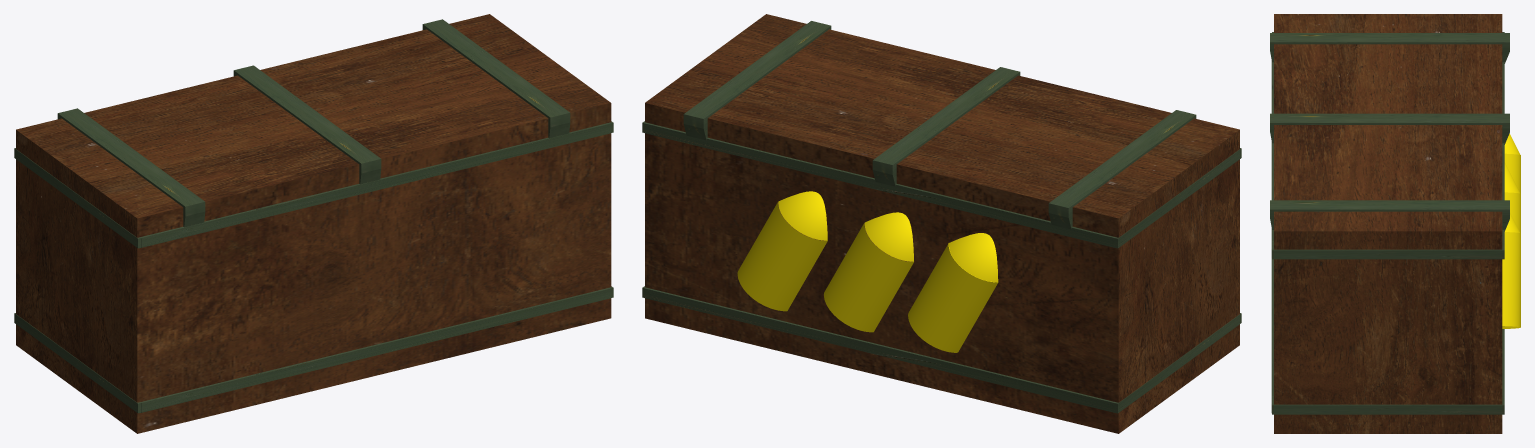
The model's file is Crate.fbx.
3 views of the same model, side by side, from view 1: azimuth 30°, elevation 25°; view 2: azimuth 150°, elevation 25°; view 3: azimuth 270°, elevation 25° (orthographic). The views are drawn at different scales.
Visible parts, largest first — view 1: Crate; view 2: Crate; view 3: Crate.
Part boxes in pixels (left/top/right/bottom): Crate: left=14, top=14, right=613, bottom=433; Crate: left=642, top=14, right=1241, bottom=433; Crate: left=1270, top=14, right=1520, bottom=433.
Size of the model in its own units: 1129 by 494 by 549.
